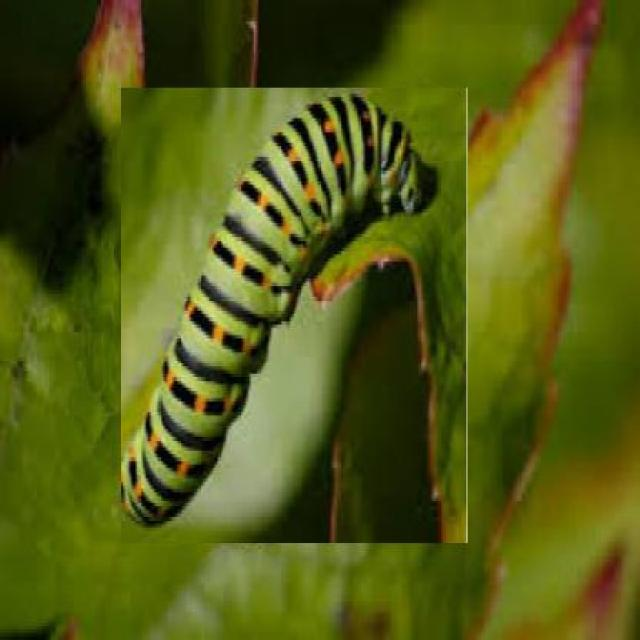Plaga: (120, 88, 469, 546)
